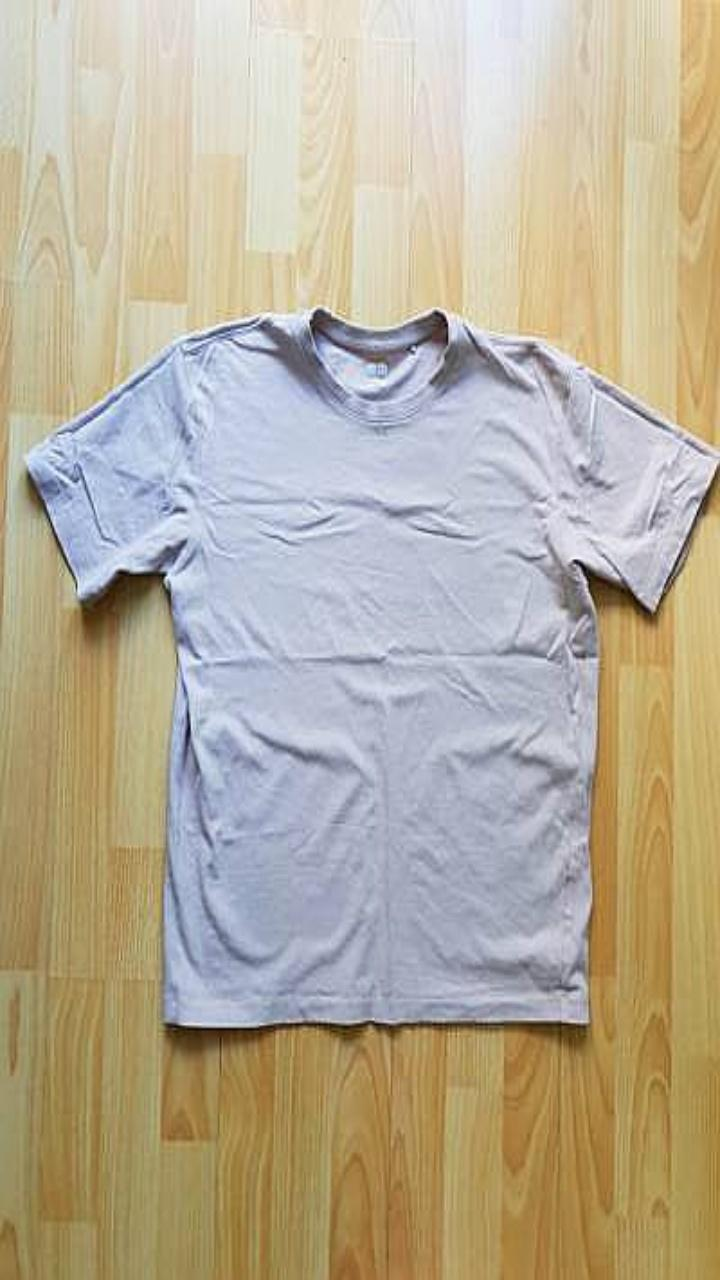T-Shirt: (24, 306, 719, 1026)
